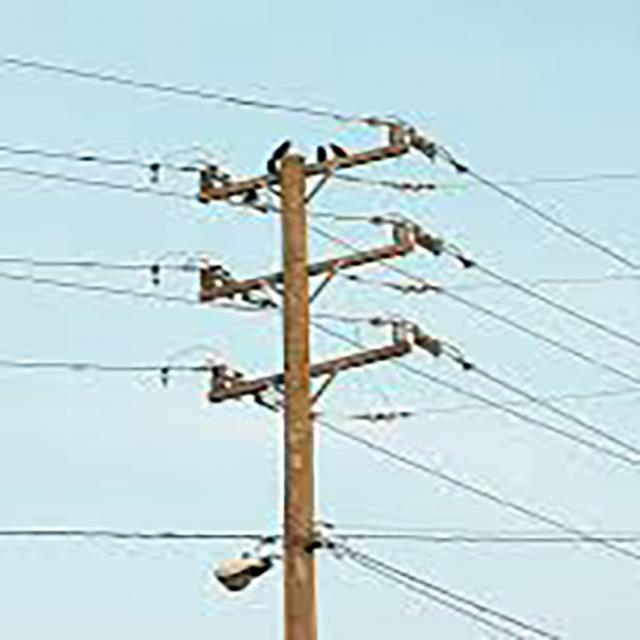pole: (151, 103, 472, 640)
